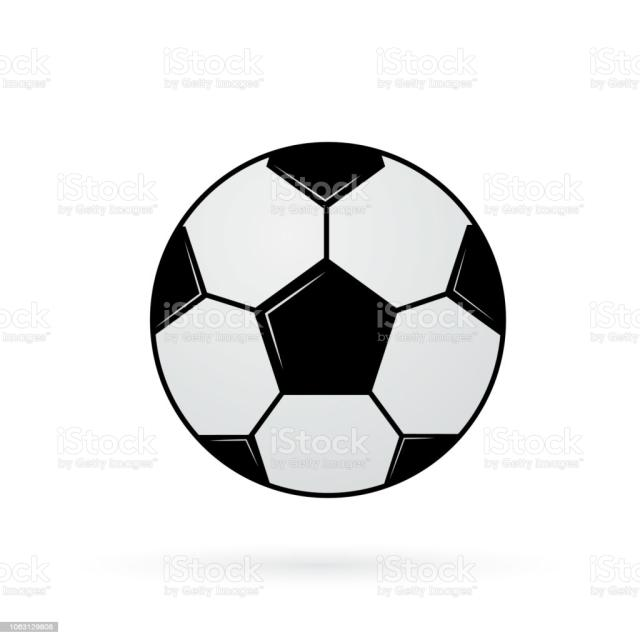soccer ball: (151, 144, 508, 497)
